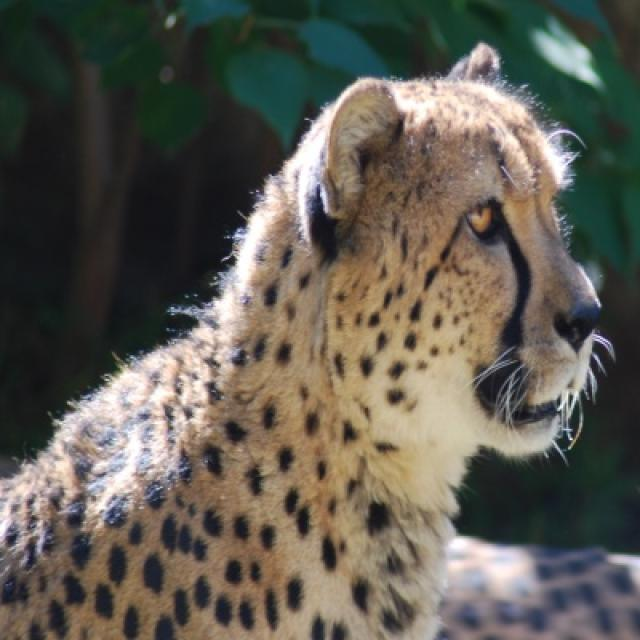Cheetah: (0, 47, 609, 638)
